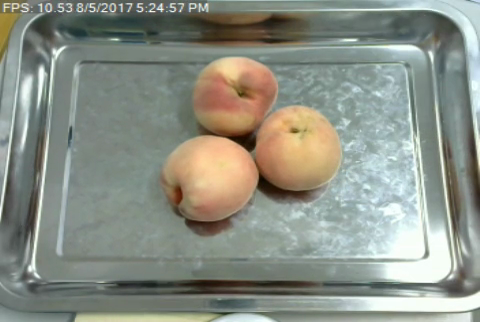Peach: (161, 134, 257, 222), (255, 105, 341, 193), (190, 54, 279, 137)
